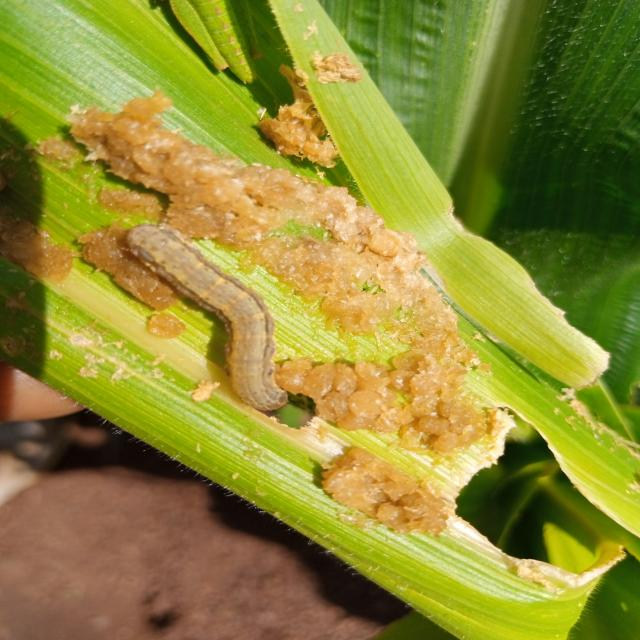yellow-stem-borer-larva: (108, 215, 313, 406)
